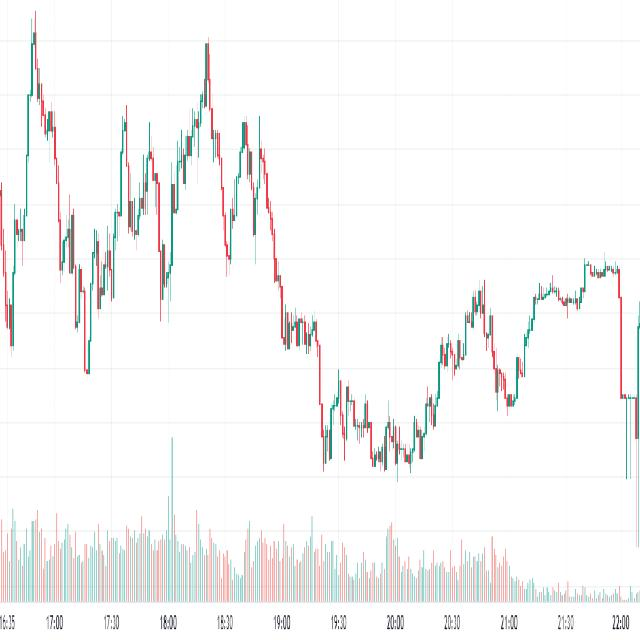Descending-Triangle: (166, 0, 303, 276), (313, 316, 445, 484)
Double-Top: (110, 97, 164, 272), (228, 110, 280, 265)
Head-Shoulders: (9, 0, 90, 386)
